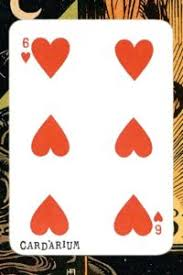six of hearts: (8, 21, 171, 255)
